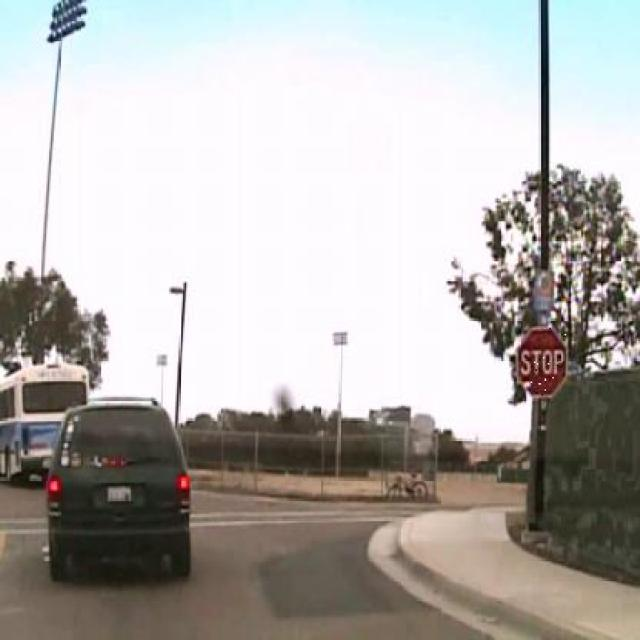stop: (516, 326, 568, 399)
